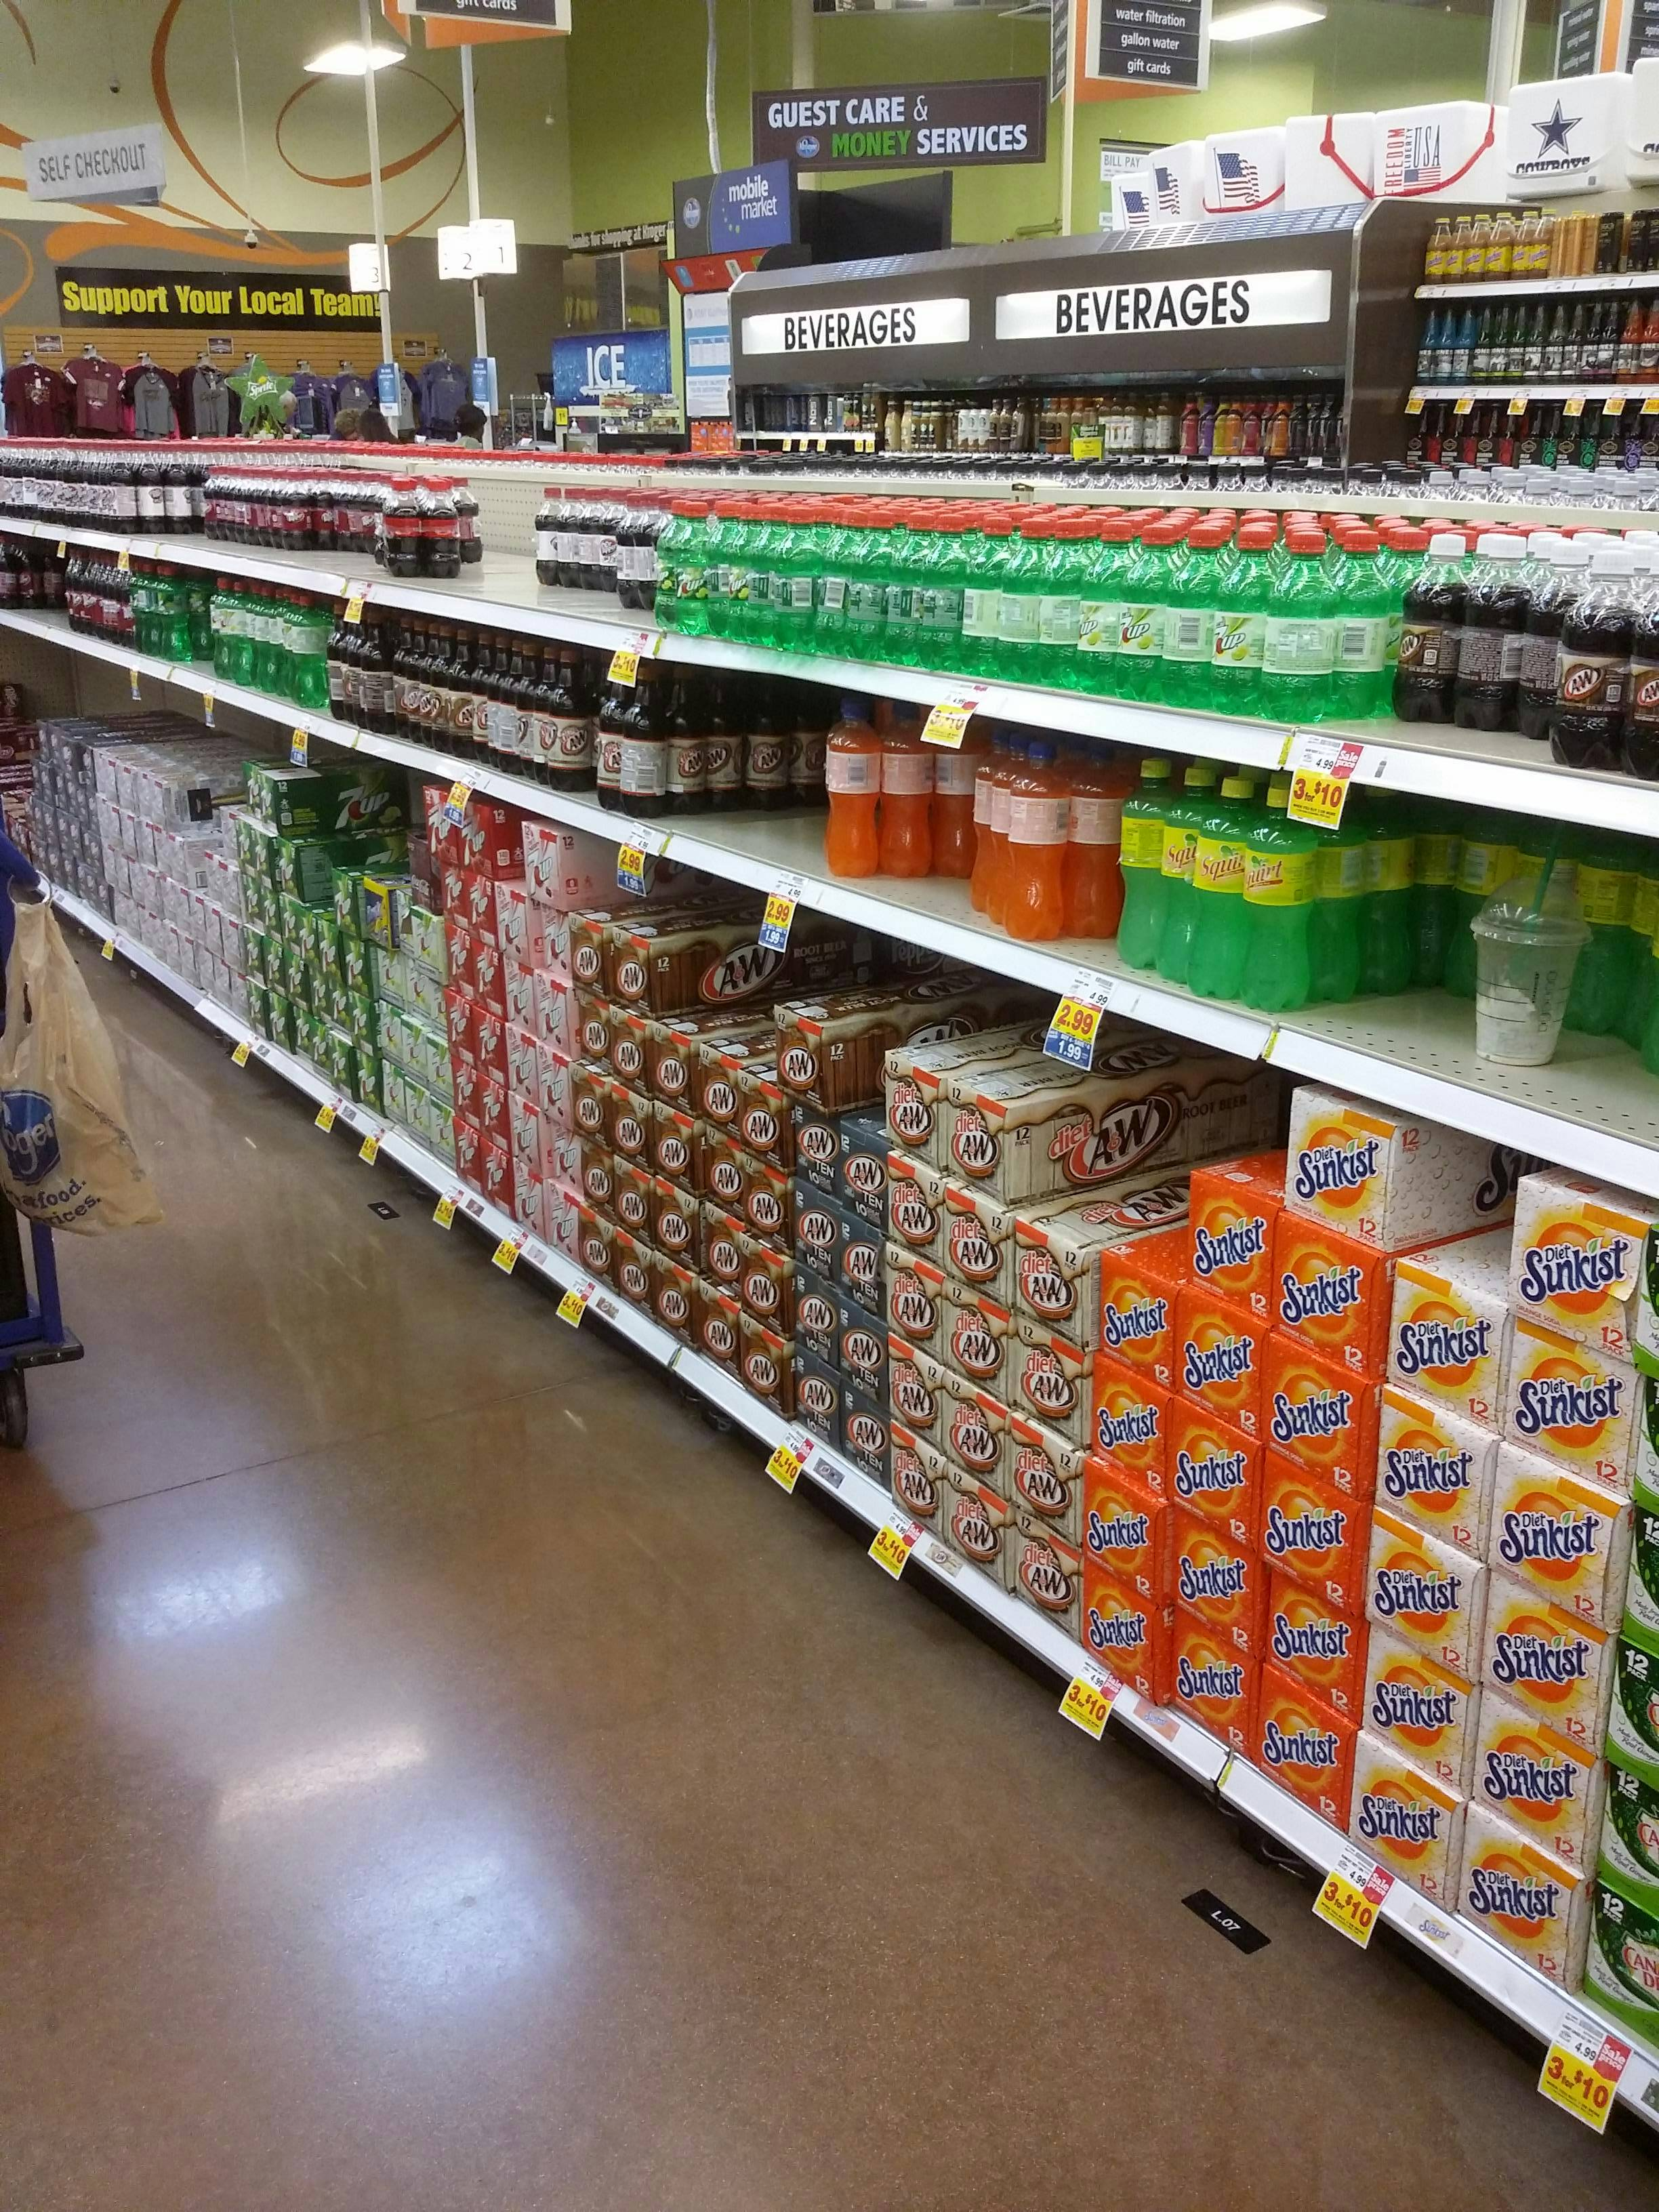Misplacement: (1302, 784, 1645, 1137), (863, 698, 978, 927), (199, 470, 364, 585), (533, 481, 619, 636)
Out-of-stock: (647, 665, 829, 874), (7, 547, 70, 629)
